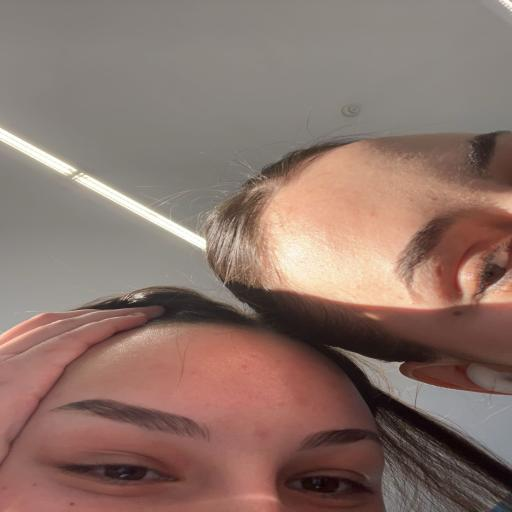marija: (15, 317, 386, 512)
masa: (263, 125, 512, 363)
